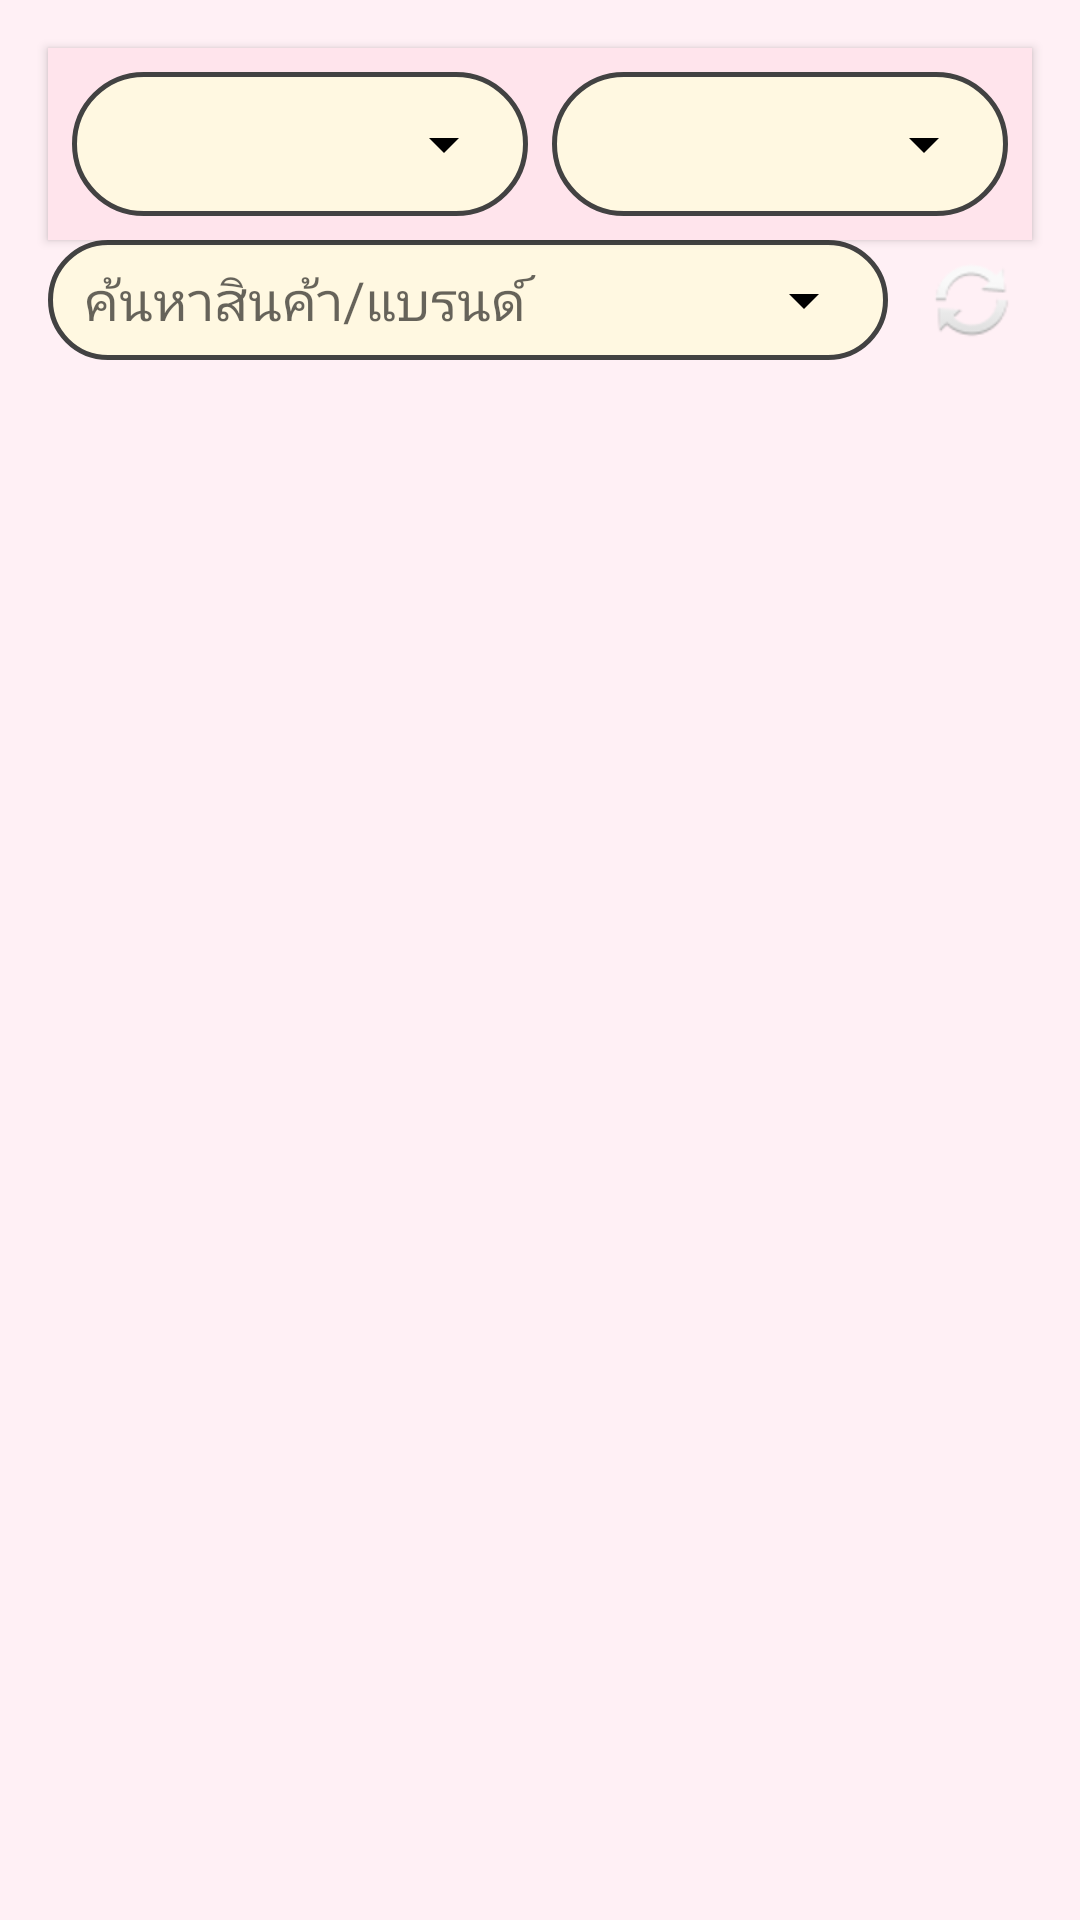

Icons on this 1080 x 1920 Android screen, each with its box as (x1, y1, x2, y2):
รีเฟรช: (936, 272, 1007, 336)
